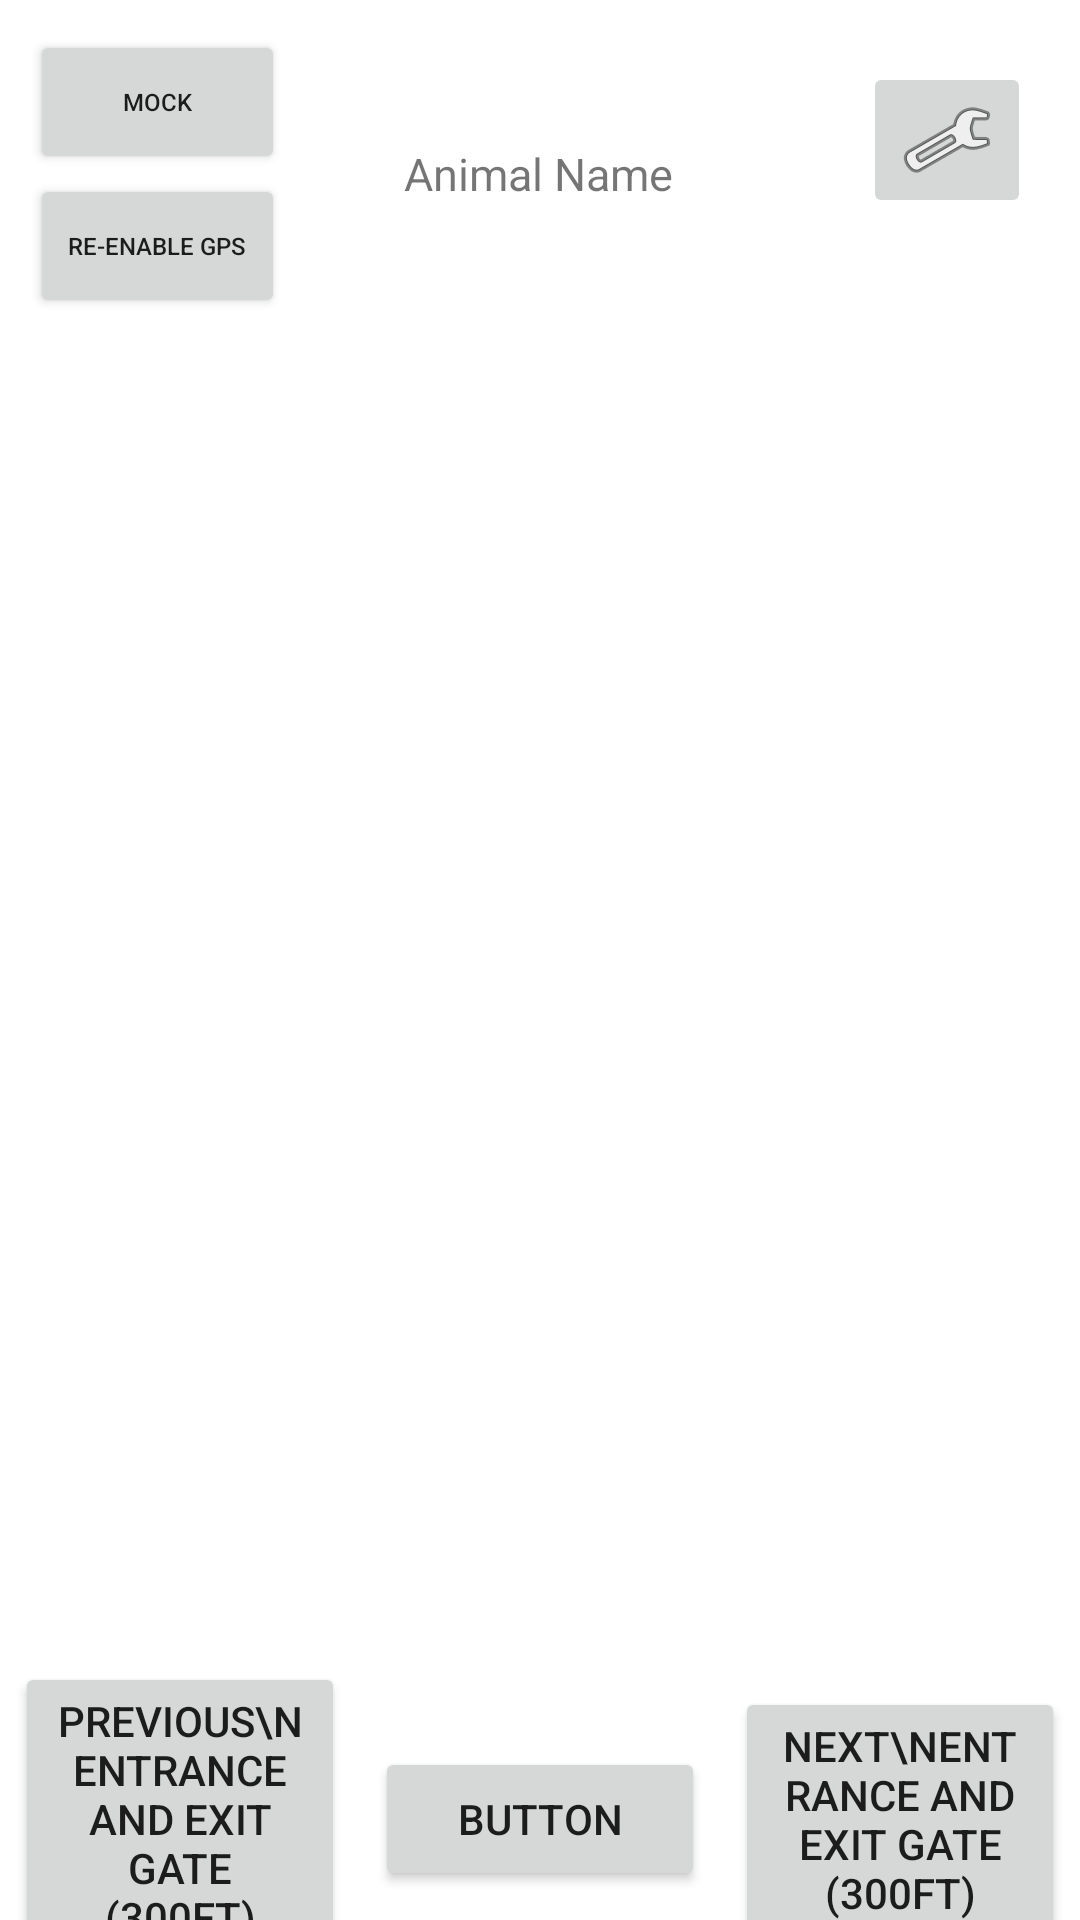

Point at icon controls on the screen. Image size 1080px×1920px, points as point (x, y).
manage: point (947, 140)
